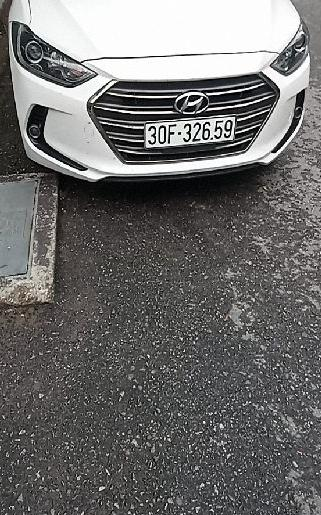Plate-iWeP: (144, 116, 236, 148)
